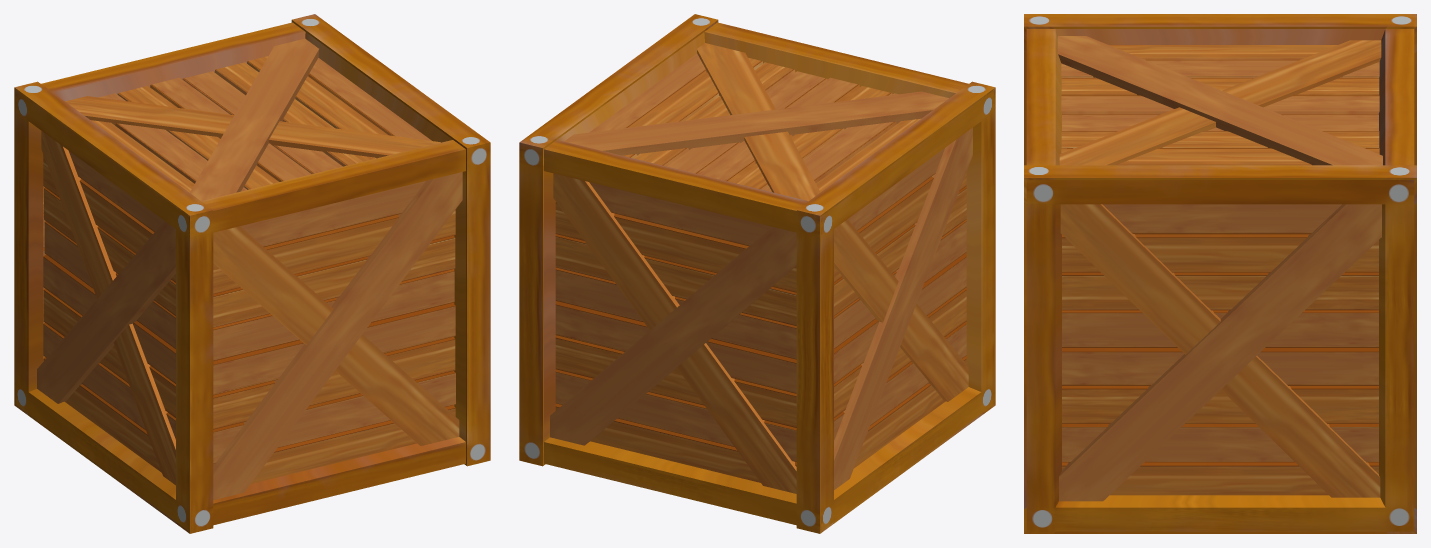
Rendered from crate 1.fbx.
3 renders of one model, left to right at view 1: azimuth 30°, elevation 25°; view 2: azimuth 150°, elevation 25°; view 3: azimuth 270°, elevation 25°, orthographic. The views are drawn at different scales.
Visible parts, largest first — view 1: crate_1; view 2: crate_1; view 3: crate_1.
Part boxes in pixels (left/top/right/bottom): crate_1: left=14, top=14, right=490, bottom=533; crate_1: left=519, top=14, right=995, bottom=533; crate_1: left=1024, top=14, right=1416, bottom=533.
Bounding box in the file's own units: 1 × 1.01 × 1.01.
